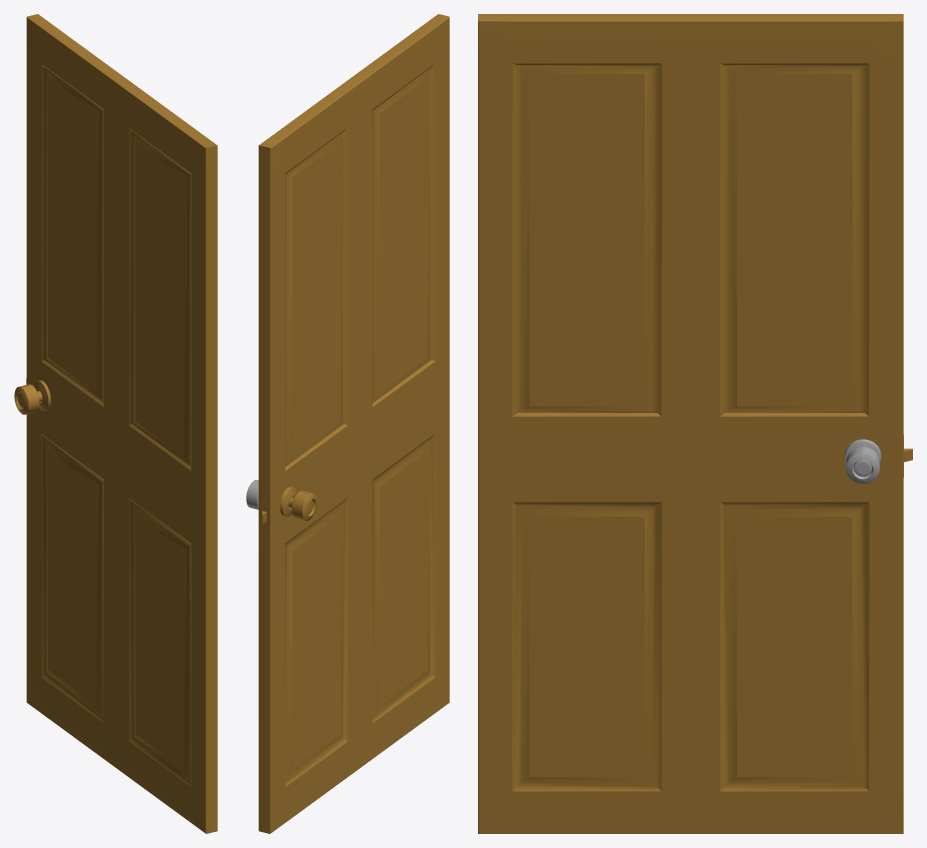
Rendered from tuer.fbx.
The picture shows the model from 3 angles, left to right: view 1: azimuth 30°, elevation 25°; view 2: azimuth 150°, elevation 25°; view 3: azimuth 270°, elevation 25°; orthographic projection. The views are drawn at different scales.
Visible parts, largest first — view 1: Door:polySurface1; view 2: Door:polySurface1; view 3: Door:polySurface1.
Part boxes in pixels (x1,y1,x2,y2): Door:polySurface1: (14, 14, 217, 833); Door:polySurface1: (246, 14, 449, 833); Door:polySurface1: (478, 14, 912, 833).
Size of the model in its own units: 0.7364 by 8.06 by 3.9.
